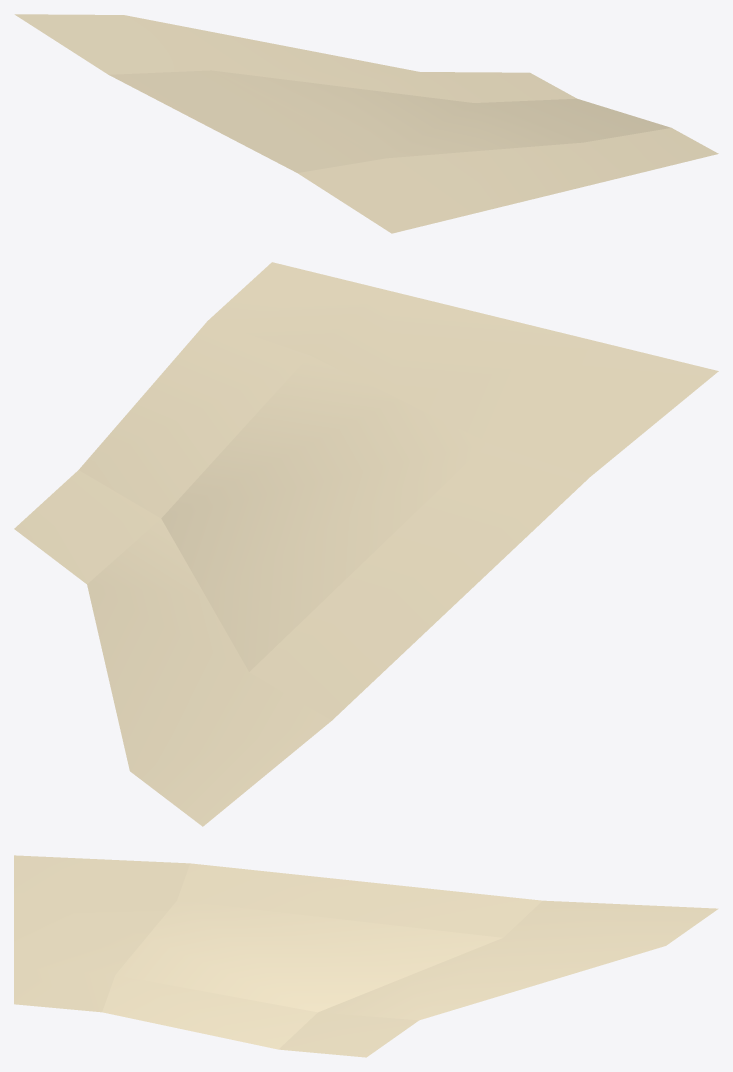
Rendered from Beach_Terrain_Sand_Transition_Gentle_Sharp_Flush_Crest.glb.
3 views of the same model, one above another, from view 1: azimuth 30°, elevation 25°; view 2: azimuth 150°, elevation 25°; view 3: azimuth 270°, elevation 25° (orthographic). The views are drawn at different scales.
Parts seen in each view (by area): view 1: Beach_Terrain_Sand_Transition_Gentle_Sharp_Flush_Crest; view 2: Beach_Terrain_Sand_Transition_Gentle_Sharp_Flush_Crest; view 3: Beach_Terrain_Sand_Transition_Gentle_Sharp_Flush_Crest.
Part boxes in pixels (x1,y1,x2,y2): Beach_Terrain_Sand_Transition_Gentle_Sharp_Flush_Crest: (14,14,718,233); Beach_Terrain_Sand_Transition_Gentle_Sharp_Flush_Crest: (14,262,718,826); Beach_Terrain_Sand_Transition_Gentle_Sharp_Flush_Crest: (14,855,718,1057).
Size of the model in its own units: 3 by 0.5 by 6.
